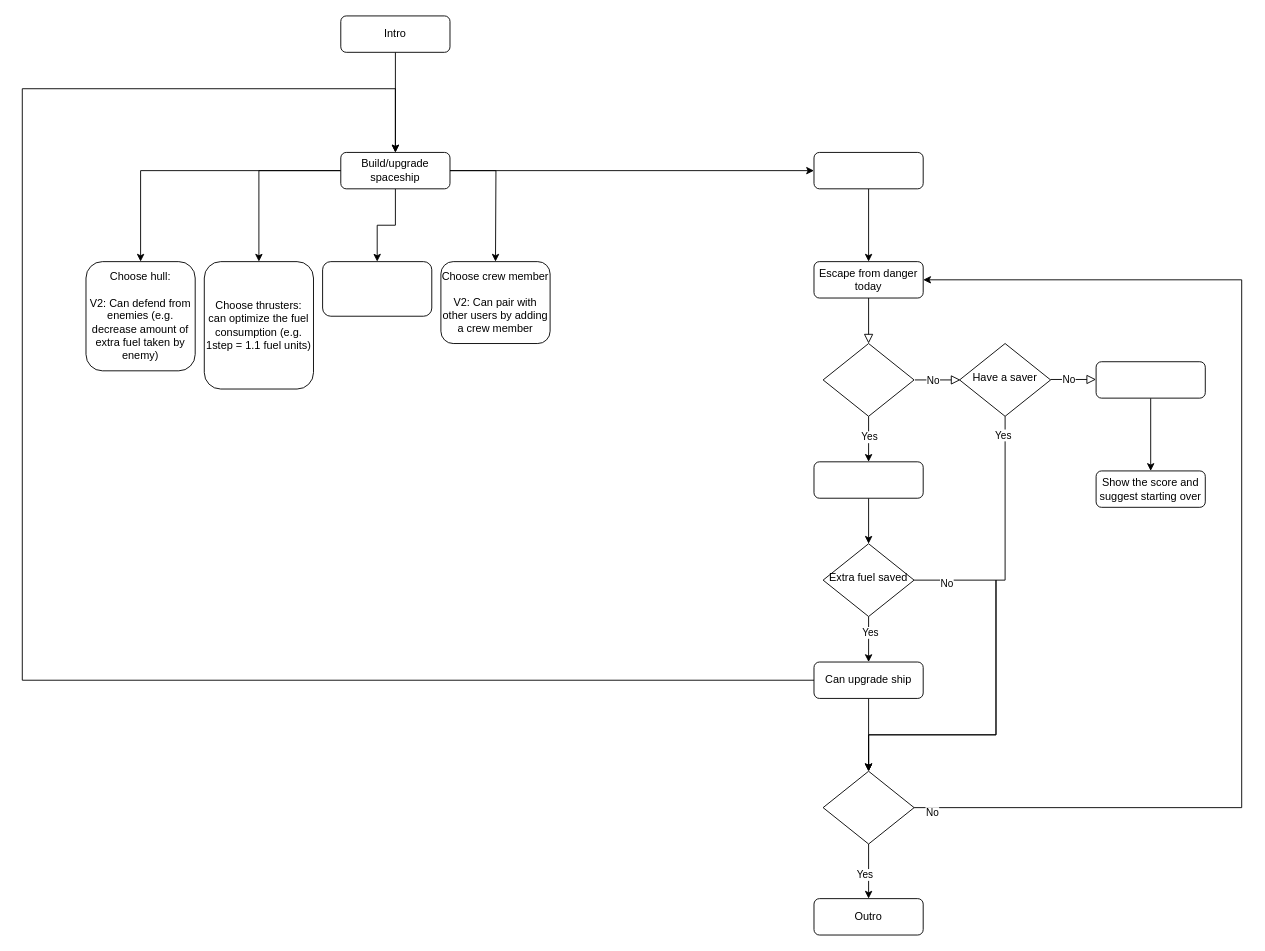
Image size: 1265x951. Some labels were removed from this diagram. The box of each missing label's shape, as (x1, y1, x2, y2) in pixels:
Choose weapon V2: Can kill enemy: (322, 261, 432, 316)
Did get to final destination?: (822, 770, 914, 844)
Enough of fuel?: (822, 343, 914, 416)
Ship escaped today's danger: (813, 461, 923, 498)
Ship is destroyed and cannot be restored: (1095, 361, 1205, 398)
Start the journey: (813, 152, 923, 189)
